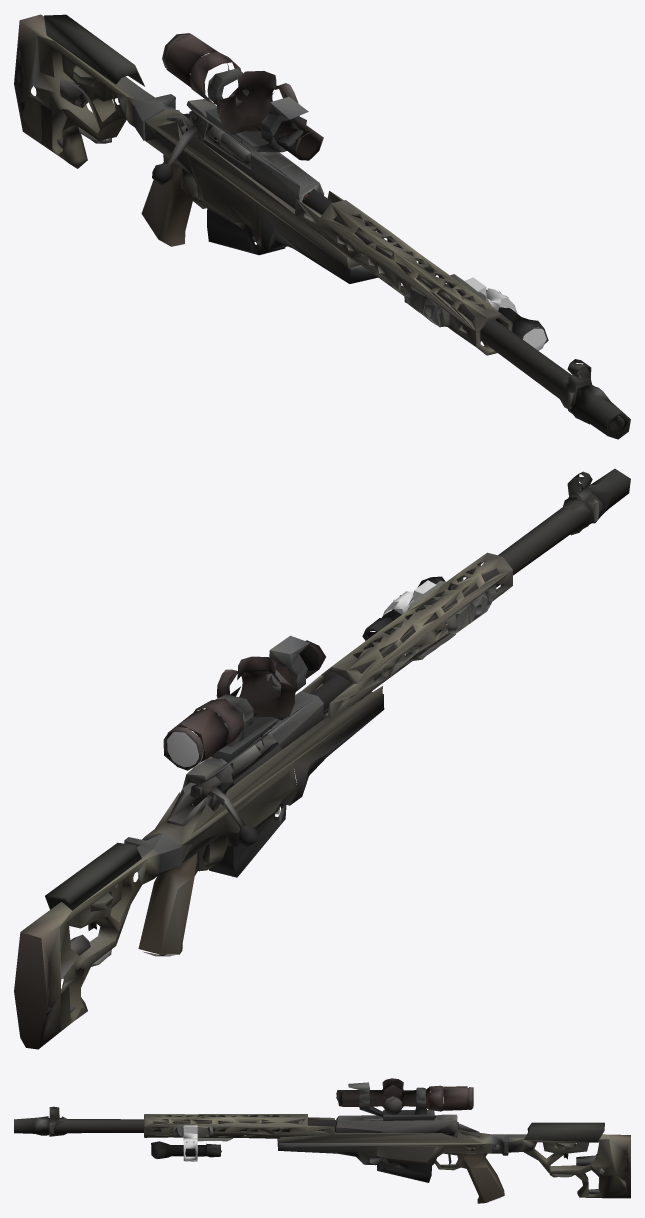
3 renders of one model, top to bottom at view 1: azimuth 30°, elevation 25°; view 2: azimuth 150°, elevation 25°; view 3: azimuth 270°, elevation 25°, orthographic. The views are drawn at different scales.
Visible parts, largest first — view 1: gun_sv98; view 2: gun_sv98; view 3: gun_sv98.
Part boxes in pixels (x1,y1,x2,y2): gun_sv98: (14,14,630,439); gun_sv98: (14,468,630,1049); gun_sv98: (14,1078,630,1203).
Size of the model in its own units: 0.1139 by 0.2131 by 1.
